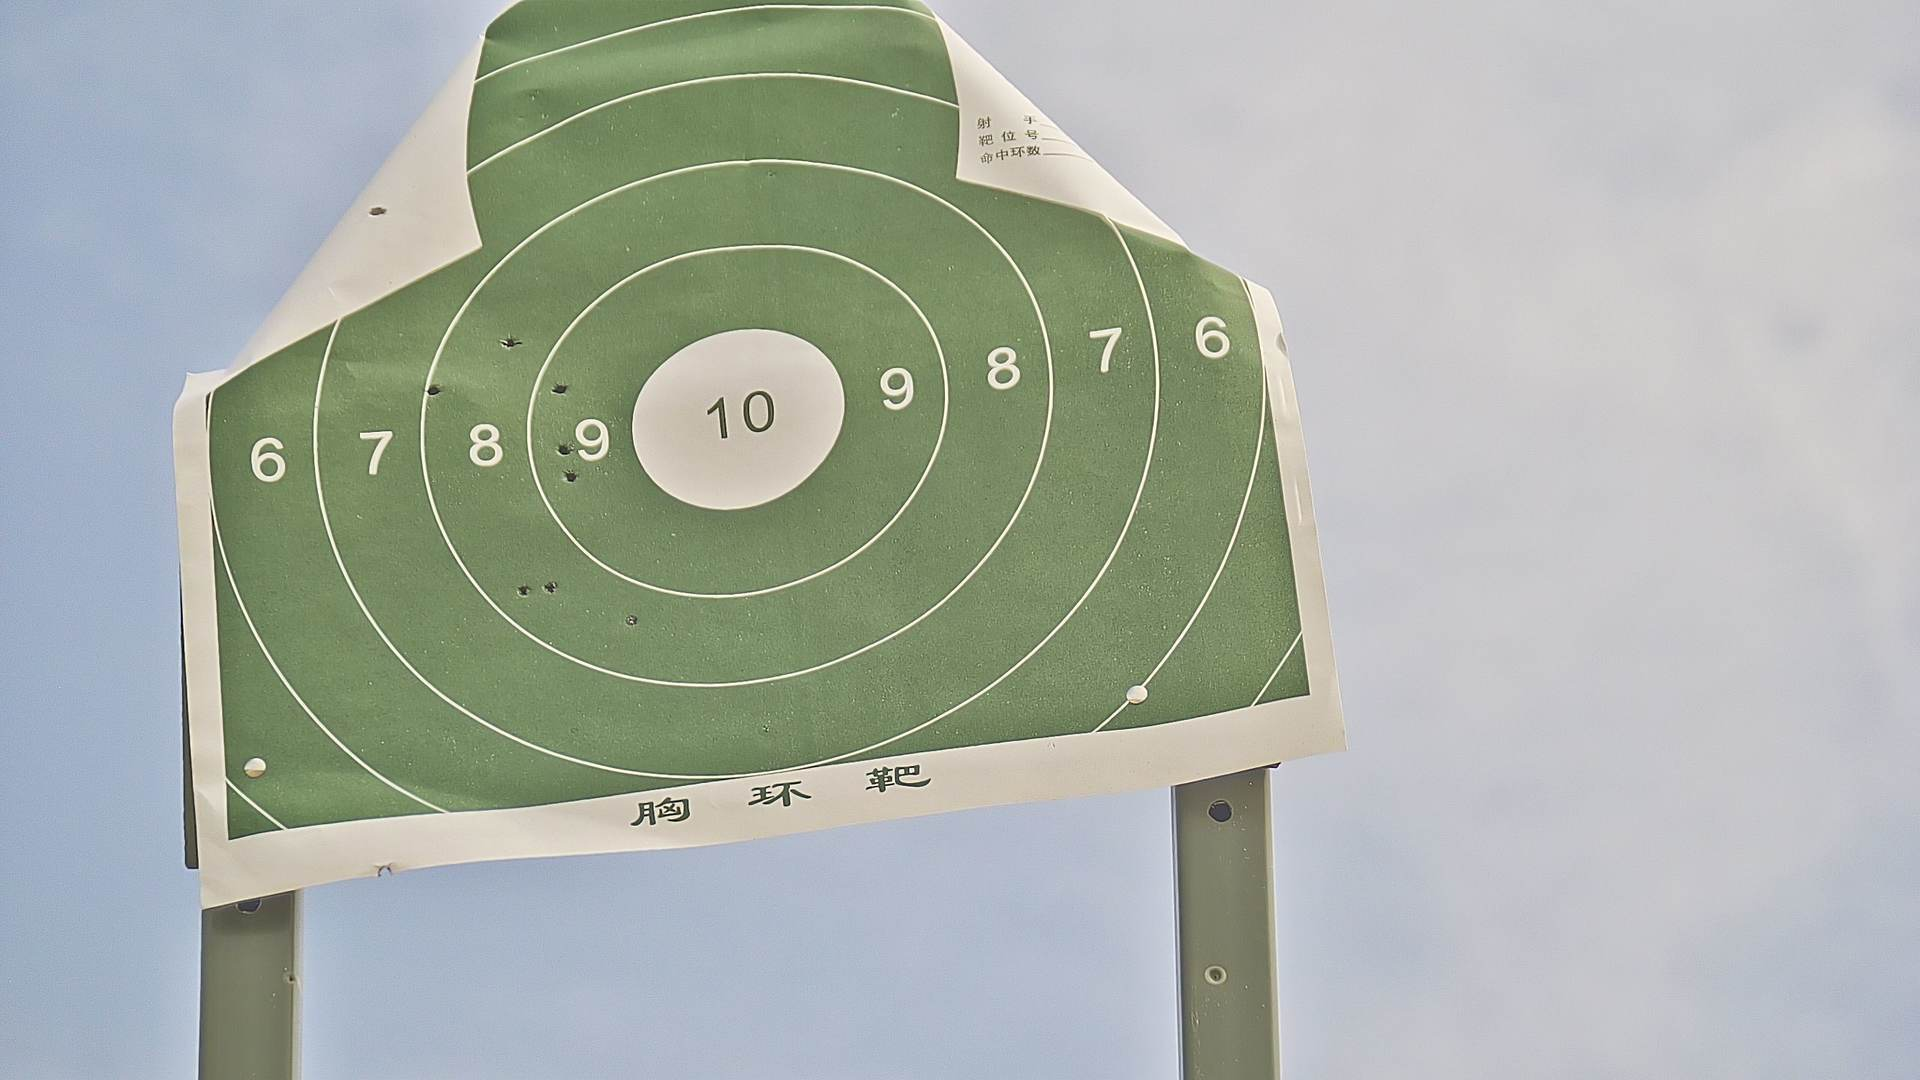hole: (502, 334, 517, 348), (425, 382, 440, 396), (518, 582, 531, 597), (543, 579, 559, 592), (564, 469, 579, 483), (625, 612, 638, 626), (553, 382, 566, 396), (556, 442, 570, 455)
kernel: (736, 413, 740, 415)
target: (207, 5, 1317, 847)
ten: (632, 327, 843, 509)
